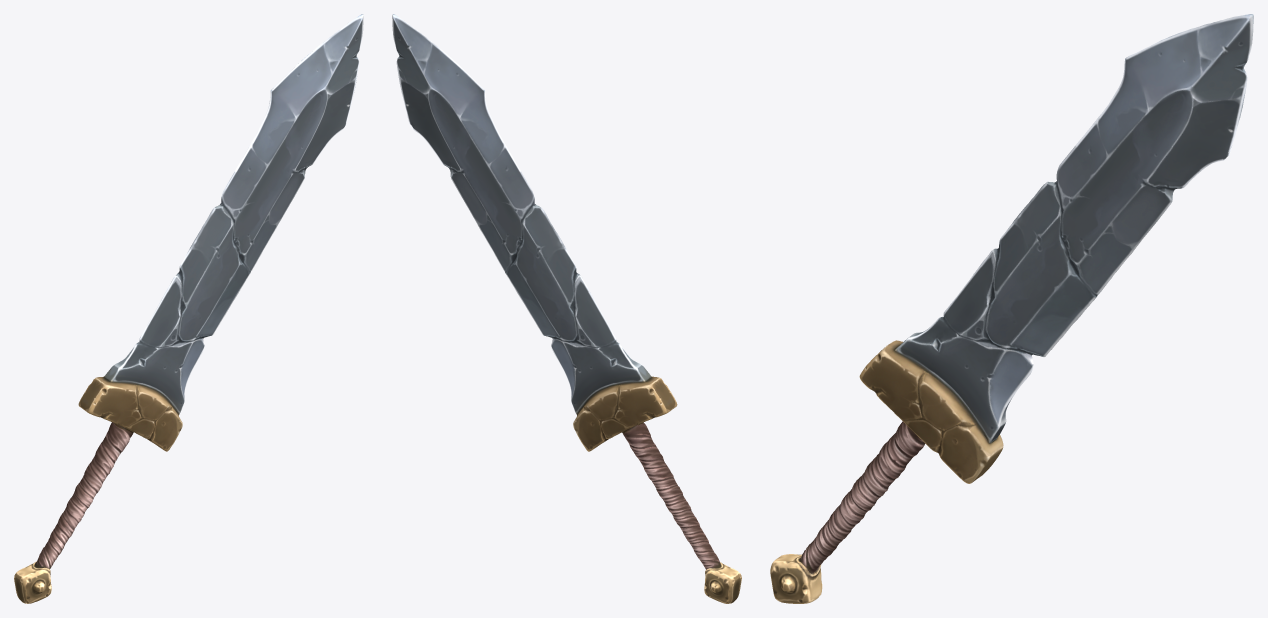
The model's file is sword_test.glb.
3 renders of one model, left to right at view 1: azimuth 30°, elevation 25°; view 2: azimuth 150°, elevation 25°; view 3: azimuth 330°, elevation 25°, orthographic. The views are drawn at different scales.
Visible parts, largest first — view 1: Object_2; view 2: Object_2; view 3: Object_2.
Boxes of the visible parts, box(x1,y1,x2,y2) form: Object_2: box(14, 14, 363, 603); Object_2: box(392, 14, 741, 603); Object_2: box(770, 14, 1253, 603).
Bounding box in the file's own units: 6.8 × 9.5 × 0.6088.
Materials: 1 (1 with a texture image).
